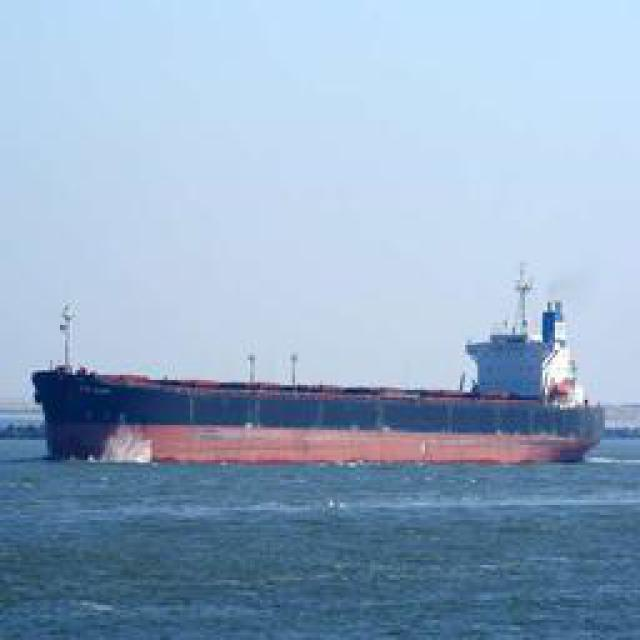Ship: (34, 276, 624, 474)
